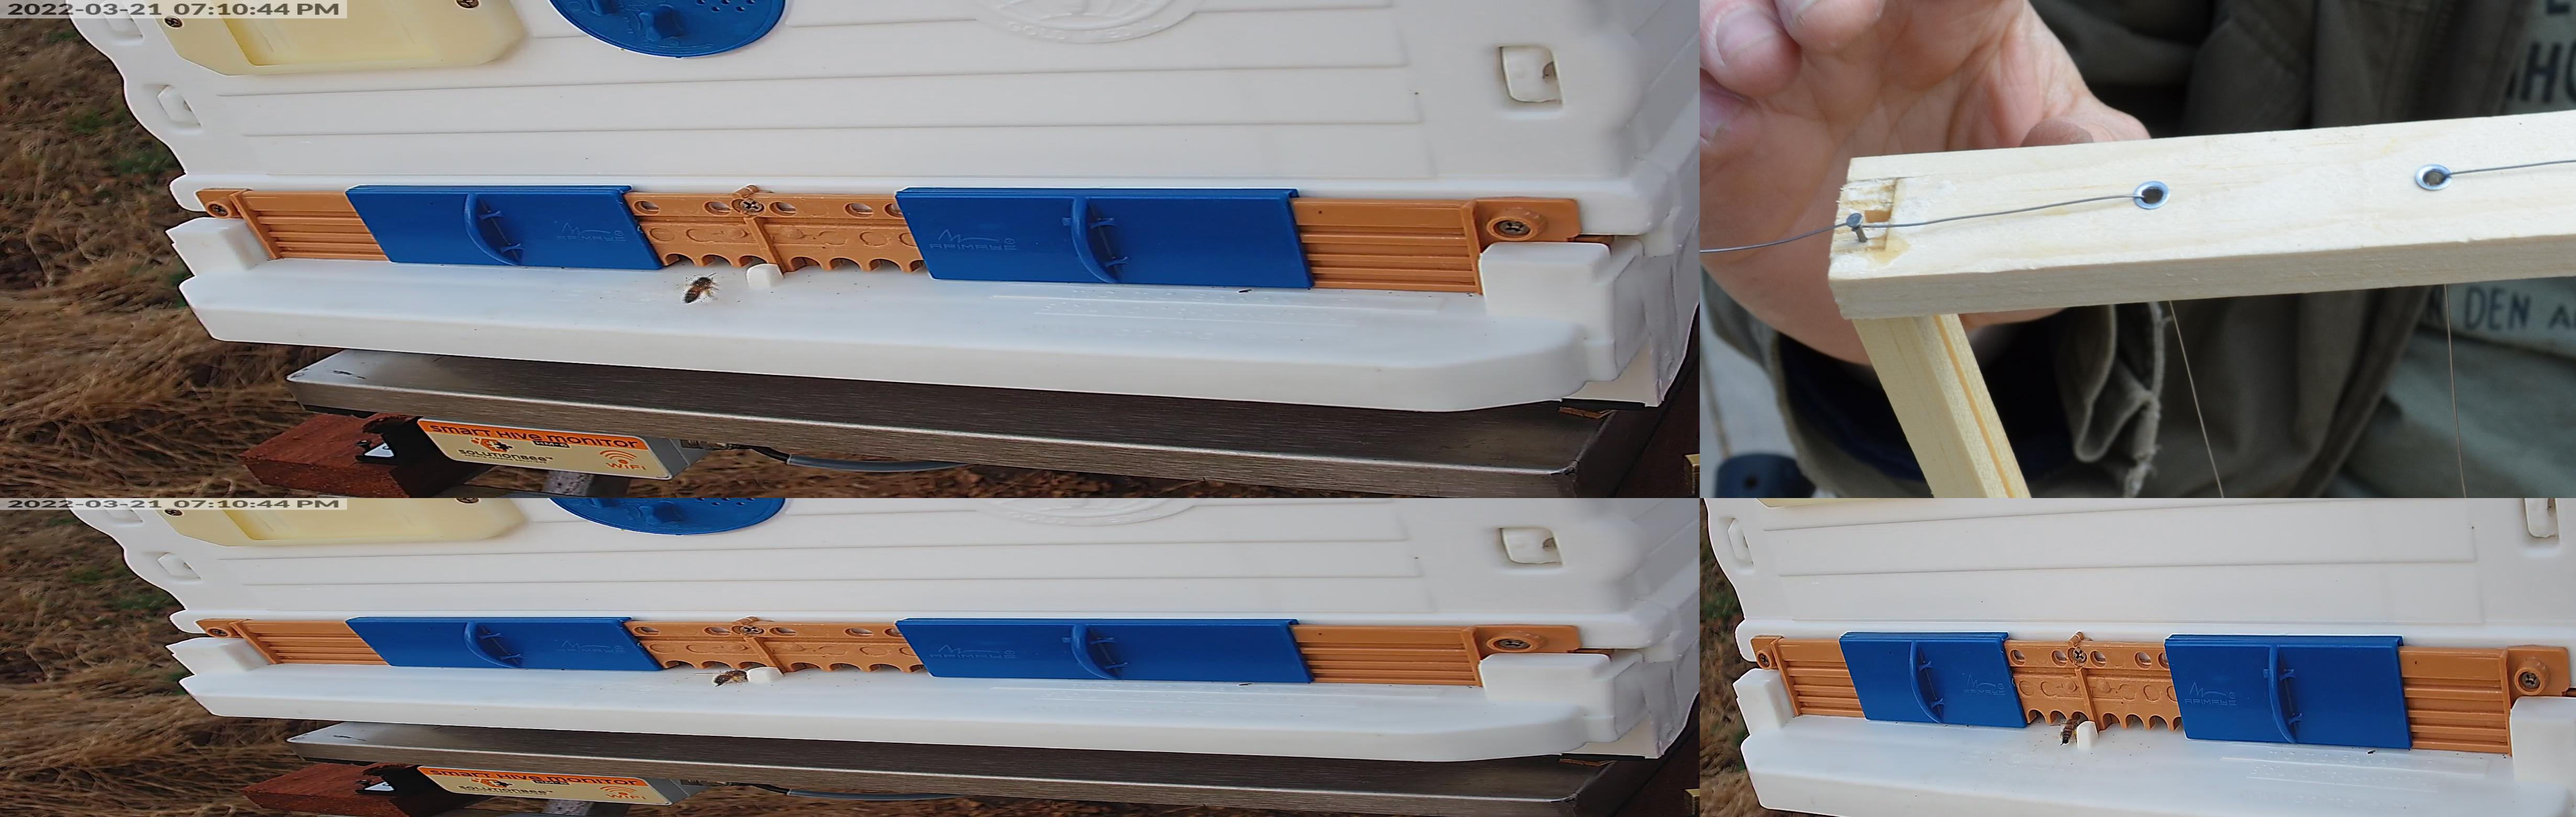pollenbee: (683, 276, 713, 302), (713, 669, 746, 685), (2060, 720, 2078, 743)
